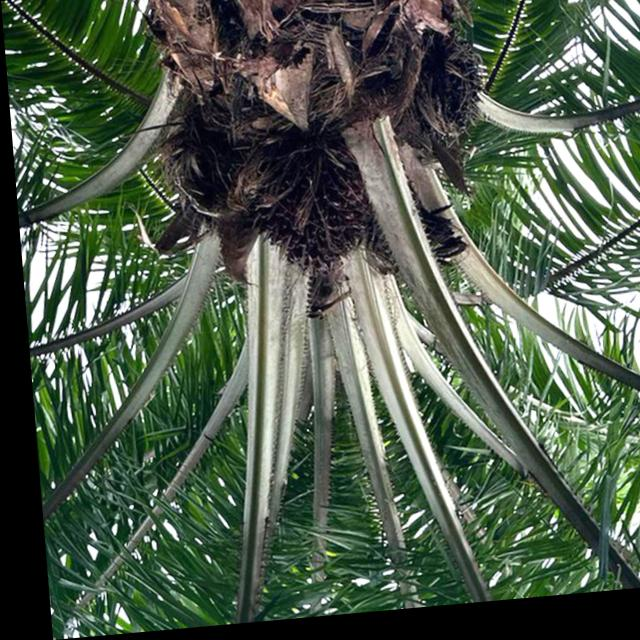almost: (246, 141, 371, 283), (411, 43, 491, 150)
